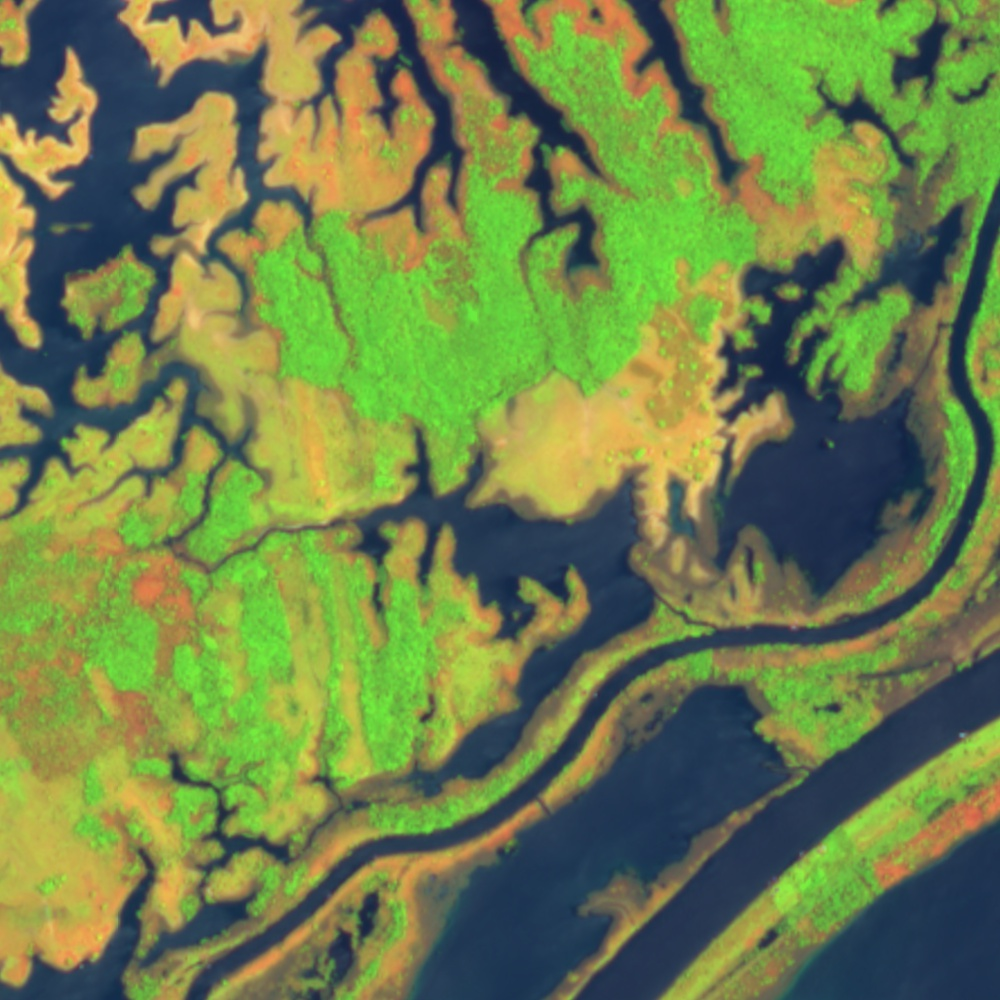legal: (1, 1, 999, 999)
